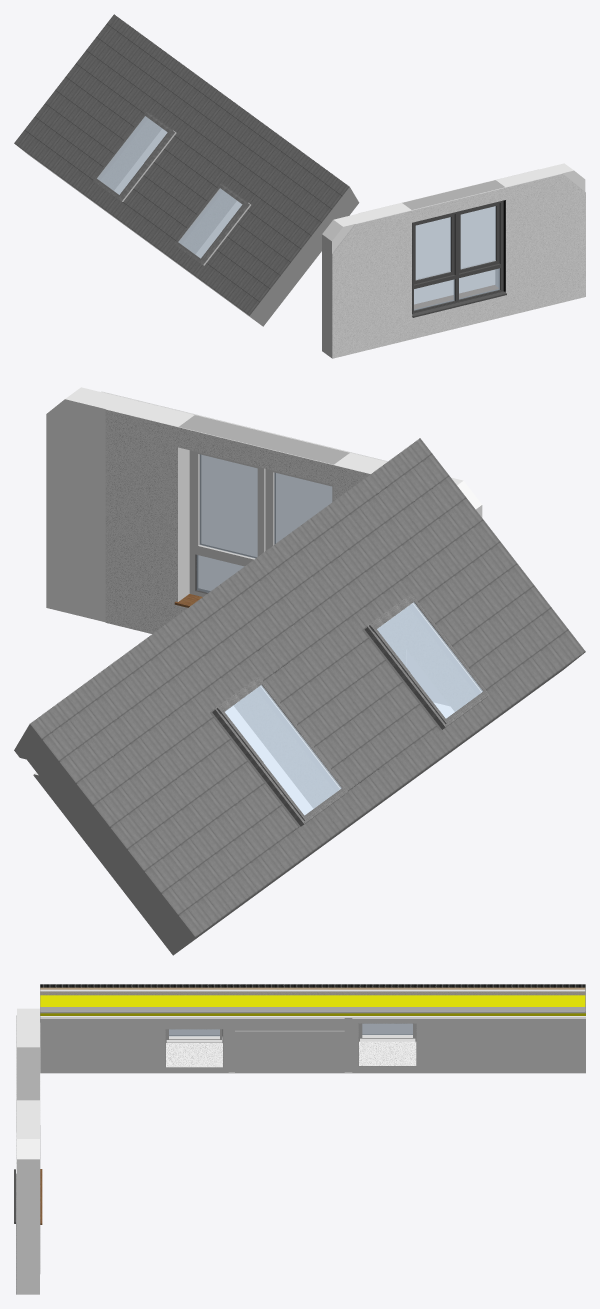
Rendered from MFH.fbx.
3 renders of one model, top to bottom at view 1: azimuth 30°, elevation 25°; view 2: azimuth 150°, elevation 25°; view 3: azimuth 270°, elevation 25°, orthographic. The views are drawn at different scales.
Parts seen in each view (by area): view 1: Dachziegel, grau, Verputz, glatt, weiß, Glas Normalglas, Farbe - dunkelgrau 21, Farbe, weiß (3), Farbe, grau, Metall Stahl, verzinkt, Fensterrahmen, Metall Chrom; view 2: Dachziegel, grau, Verputz, glatt, weiß, Glas Normalglas, Farbe, weiß (3), Farbe, grau, Fensterrahmen, Metall Stahl, verzinkt, Metall Chrom; view 3: Farbe, weiß, Farbe, gelb, Unsichtbar, Farbe, weiß (3), Verputz, glatt, weiß, Holzwolle-Dämmplatte, Dachziegel, schwarz, Holz Kiefer, Metall Chrom, Glas Normalglas, Fensterrahmen, Farbe, grau.
Boxes of the visible parts, x1=… form: Dachziegel, grau: x1=14, y1=14, x2=349, y2=315; Verputz, glatt, weiß: x1=101, y1=119, x2=585, y2=358; Glas Normalglas: x1=97, y1=116, x2=499, y2=310; Farbe - dunkelgrau 21: x1=412, y1=200, x2=506, y2=317; Farbe, weiß (3): x1=322, y1=163, x2=585, y2=357; Farbe, grau: x1=15, y1=144, x2=359, y2=326; Metall Stahl, verzinkt: x1=93, y1=111, x2=249, y2=264; Fensterrahmen: x1=97, y1=116, x2=495, y2=279; Metall Chrom: x1=402, y1=180, x2=504, y2=209; Dachziegel, grau: x1=30, y1=438, x2=585, y2=937; Verputz, glatt, weiß: x1=101, y1=391, x2=476, y2=808; Glas Normalglas: x1=196, y1=454, x2=482, y2=815; Farbe, weiß (3): x1=46, y1=387, x2=482, y2=705; Farbe, grau: x1=14, y1=653, x2=583, y2=955; Fensterrahmen: x1=189, y1=450, x2=482, y2=827; Metall Stahl, verzinkt: x1=212, y1=594, x2=489, y2=826; Metall Chrom: x1=179, y1=415, x2=349, y2=464; Farbe, weiß: x1=40, y1=1011, x2=585, y2=1073; Farbe, gelb: x1=40, y1=995, x2=585, y2=1015; Unsichtbar: x1=40, y1=989, x2=585, y2=1071; Farbe, weiß (3): x1=17, y1=1008, x2=39, y2=1294; Verputz, glatt, weiß: x1=16, y1=1015, x2=416, y2=1294; Holzwolle-Dämmplatte: x1=40, y1=991, x2=585, y2=995; Dachziegel, schwarz: x1=40, y1=984, x2=585, y2=987; Holz Kiefer: x1=40, y1=987, x2=585, y2=989; Metall Chrom: x1=17, y1=1047, x2=39, y2=1100; Glas Normalglas: x1=169, y1=1023, x2=412, y2=1036; Fensterrahmen: x1=166, y1=1023, x2=416, y2=1042; Farbe, grau: x1=40, y1=984, x2=585, y2=1010.
Size of the model in its own units: 699 by 918 by 323.
Materials: 18 (8 with a texture image).
